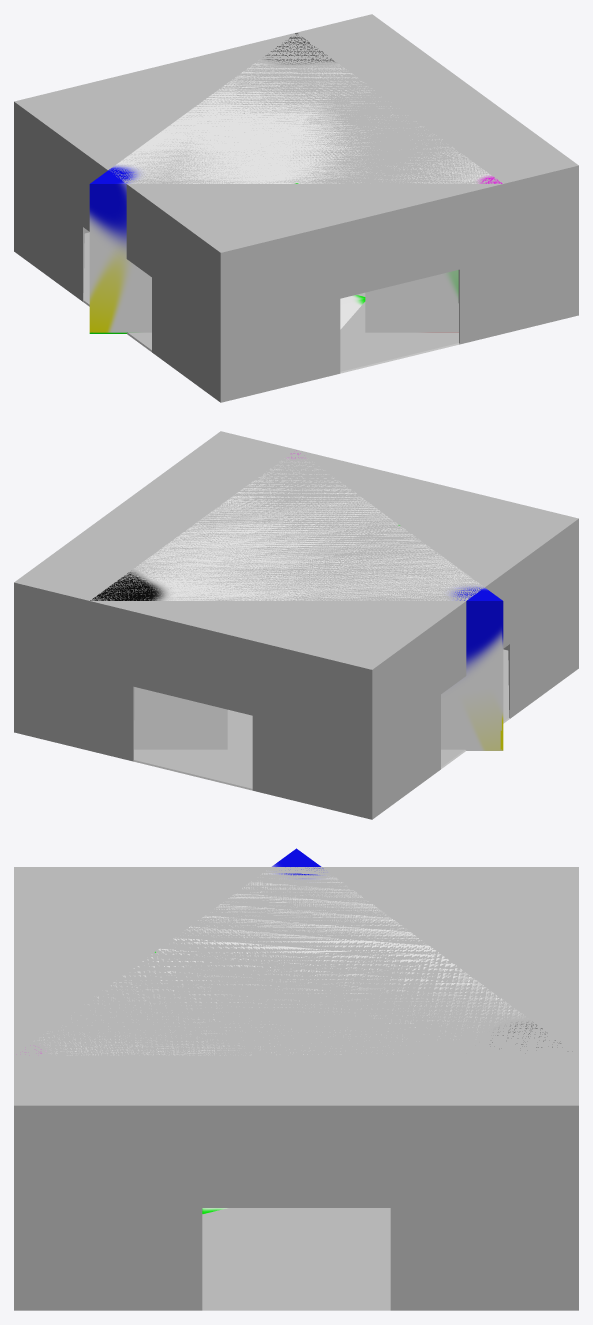
Rendered from 3in4kotnisobi_new_version.fbx.
The picture shows the model from 3 angles, top to bottom: view 1: azimuth 30°, elevation 25°; view 2: azimuth 150°, elevation 25°; view 3: azimuth 270°, elevation 25°; orthographic projection. The views are drawn at different scales.
Visible parts, largest first — view 1: Plane, Plane.001; view 2: Plane, Plane.001; view 3: Plane, Plane.001.
Part boxes in pixels (box(x1,y1,x2,y2)): Plane: box(14, 14, 578, 402); Plane.001: box(89, 33, 502, 333); Plane: box(14, 431, 578, 819); Plane.001: box(90, 450, 503, 750); Plane: box(14, 867, 578, 1310); Plane.001: box(35, 848, 560, 1213).
Size of the model in its own units: 500 by 539 by 200.
